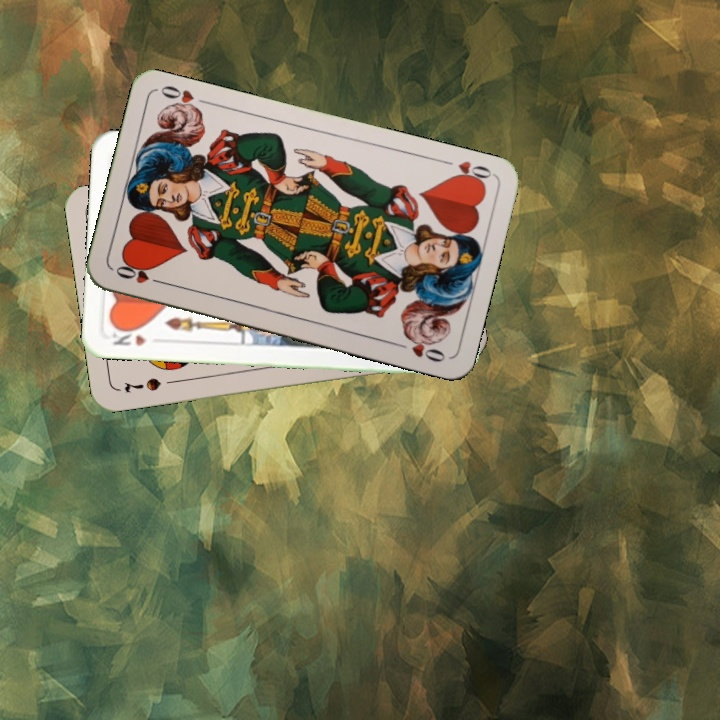HK: (106, 323, 149, 349)
HO: (437, 156, 495, 188), (111, 261, 168, 287)
S7: (120, 374, 164, 396)
